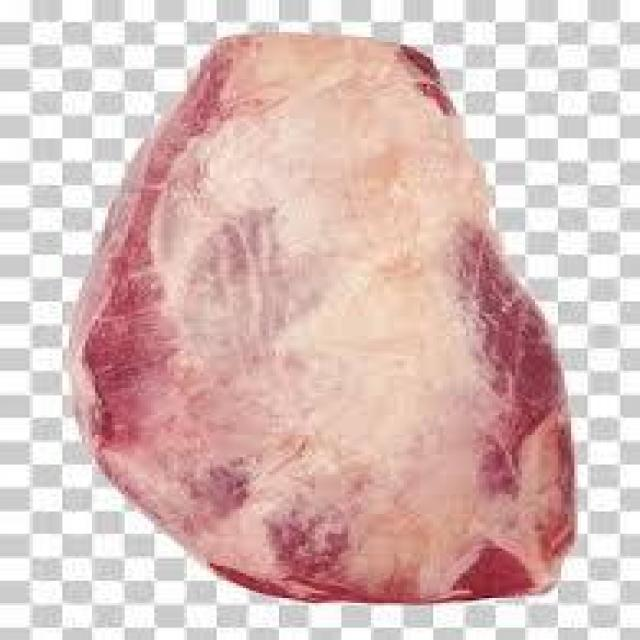Beef: (86, 29, 580, 598)
